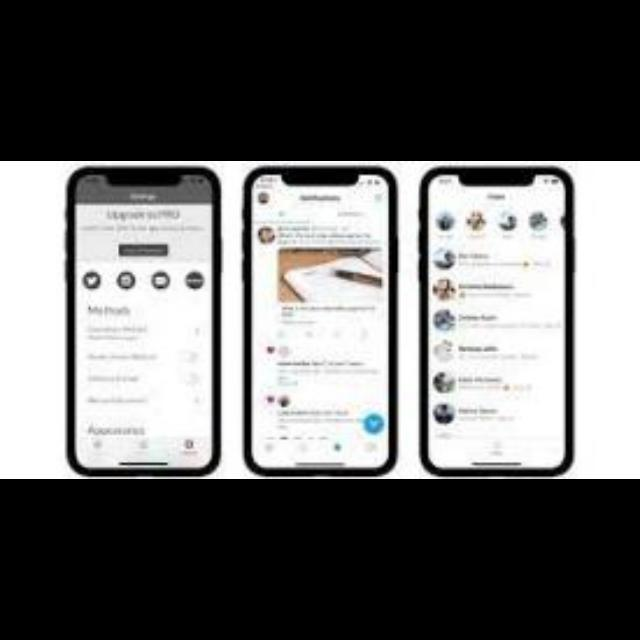Phone: (242, 170, 400, 478), (65, 170, 223, 474), (422, 166, 574, 480)
